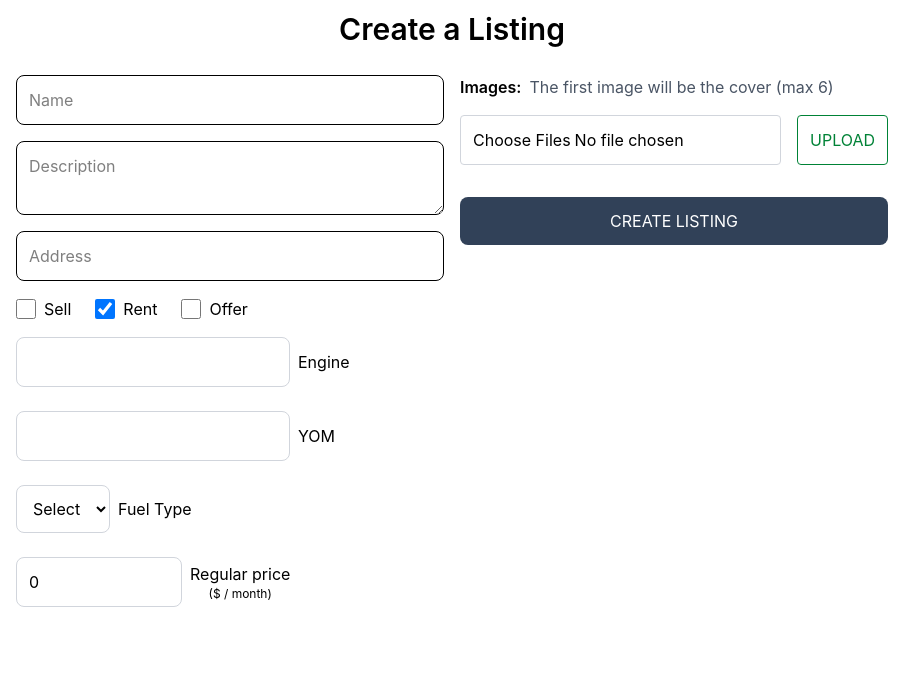
Test: checking Offer reveals the Discounted price input
The width and height of the screenshot is (905, 698).
Expected: the text "discounted price" is not shown
Click the checkbox next to "Offer" at (191, 309), box [181, 297, 201, 321]
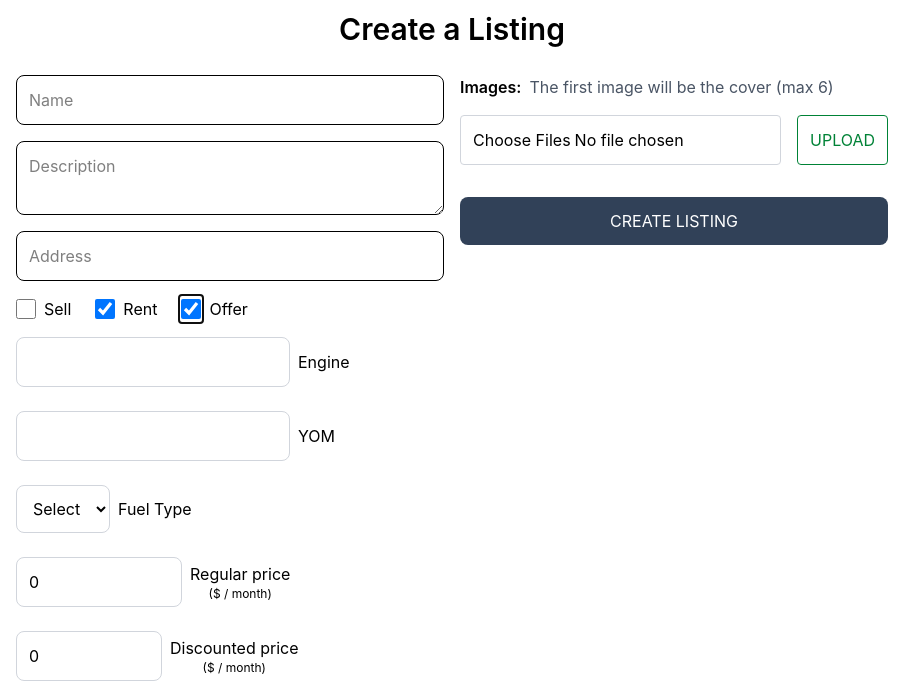
Expected: the text "Discounted price" is shown, [170, 636, 298, 660]
